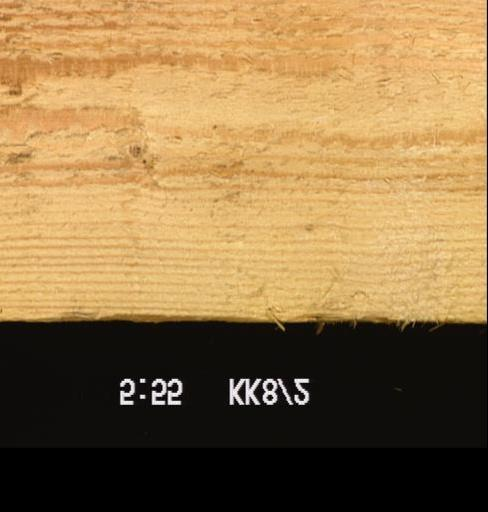small_knot: (125, 142, 143, 161)
wave: (57, 305, 417, 324)
